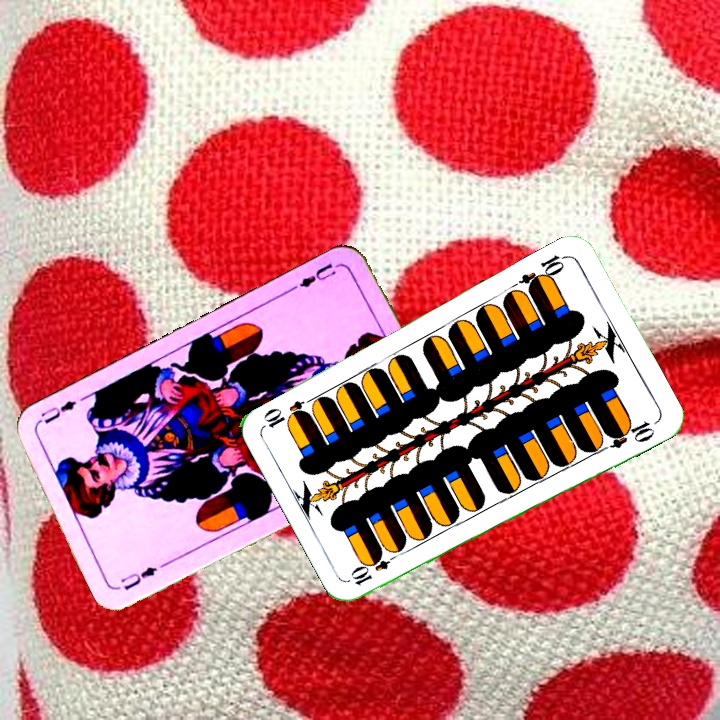E10: (516, 251, 570, 294), (347, 547, 402, 588)
EU: (288, 259, 344, 293), (116, 562, 160, 593)
